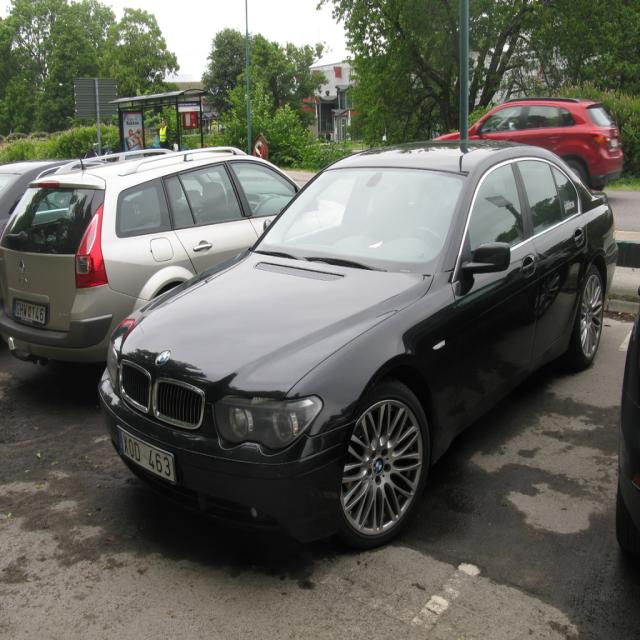car: (96, 141, 616, 550)
